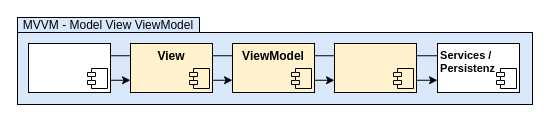
The diagram is 550 pixels wide and 122 high, and some of its shapes have lost their labels. The shapes that lost their labels are listed below. From the top down, each one's box as (x1, y1, x2, y2) in pixels, then its label:
(28, 42, 110, 92): UI
(334, 42, 416, 92): Model
